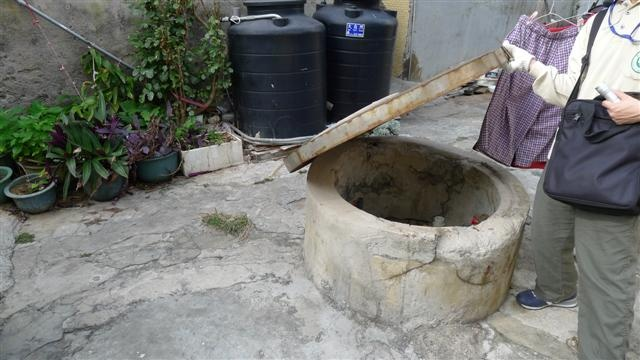bowl: (296, 128, 534, 329)
bucket: (229, 1, 335, 144), (312, 1, 400, 126)
